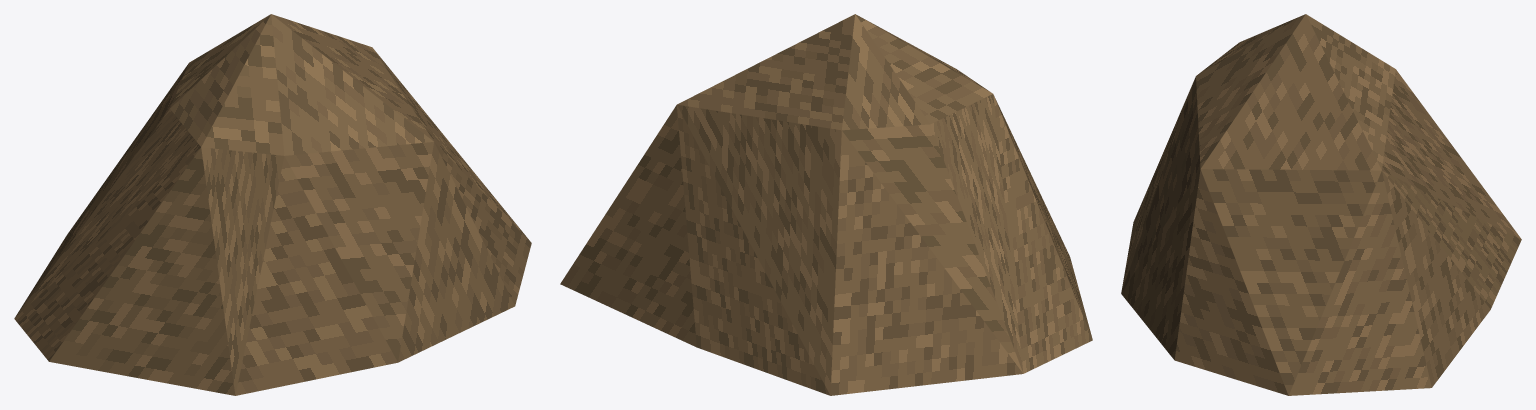
The model's file is f_dirtmound_shallow.glb.
The picture shows the model from 3 angles, left to right: view 1: azimuth 30°, elevation 25°; view 2: azimuth 150°, elevation 25°; view 3: azimuth 270°, elevation 25°; orthographic projection. The views are drawn at different scales.
Parts seen in each view (by area): view 1: block_mound; view 2: block_mound; view 3: block_mound.
Boxes of the visible parts, <box> form: block_mound: <box>14,14,531,395</box>; block_mound: <box>560,14,1092,395</box>; block_mound: <box>1121,14,1521,395</box>.
Size of the model in its own units: 0.8743 by 0.49 by 0.6673.
Materials: 1 (1 with a texture image).
